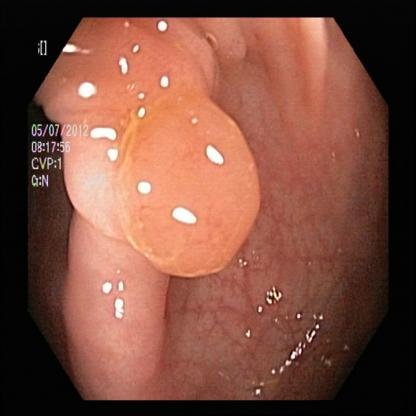Labels: (25, 116, 101, 196), (32, 24, 70, 74)
Polyps: (46, 56, 262, 269), (69, 215, 176, 392)
